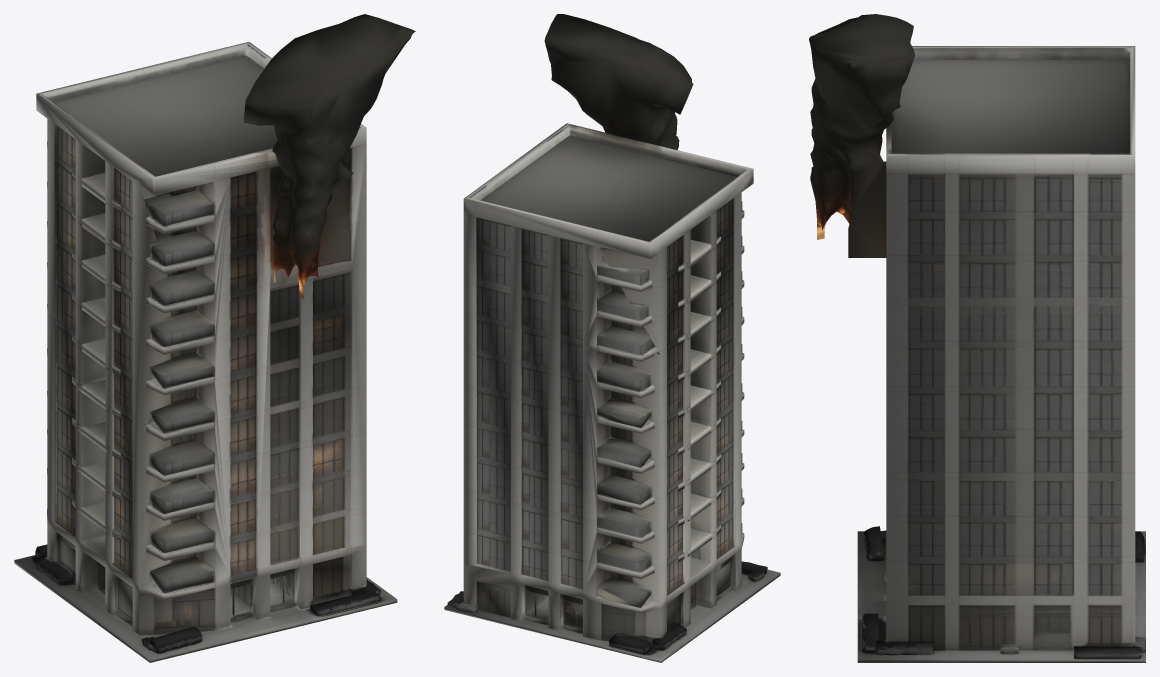
File: highrise.glb
The picture shows the model from 3 angles, left to right: view 1: azimuth 30°, elevation 25°; view 2: azimuth 150°, elevation 25°; view 3: azimuth 270°, elevation 25°; orthographic projection. The views are drawn at different scales.
Visible parts, largest first — view 1: tripo_node_041e28a4-4926-4f0b-bac2-9391abe34d8d; view 2: tripo_node_041e28a4-4926-4f0b-bac2-9391abe34d8d; view 3: tripo_node_041e28a4-4926-4f0b-bac2-9391abe34d8d.
Boxes of the visible parts, x1,y1,x2,y2 form: tripo_node_041e28a4-4926-4f0b-bac2-9391abe34d8d: [14, 14, 415, 662]; tripo_node_041e28a4-4926-4f0b-bac2-9391abe34d8d: [444, 14, 780, 662]; tripo_node_041e28a4-4926-4f0b-bac2-9391abe34d8d: [809, 14, 1145, 662].
Size of the model in its own units: 1.52 by 3.2 by 1.61.
Materials: 1 (1 with a texture image).
